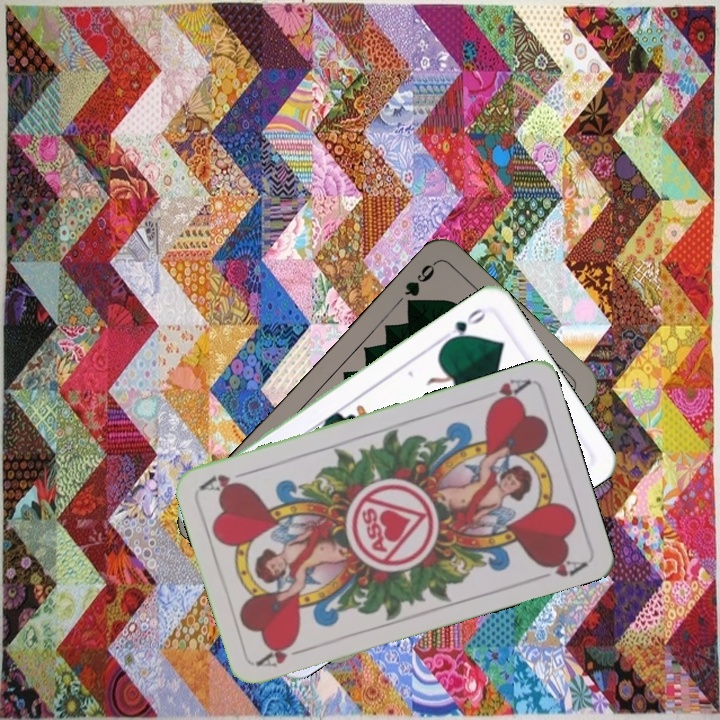G9: (400, 258, 439, 312)
GO: (440, 304, 490, 346)
HA: (253, 637, 312, 670), (483, 374, 532, 410)
